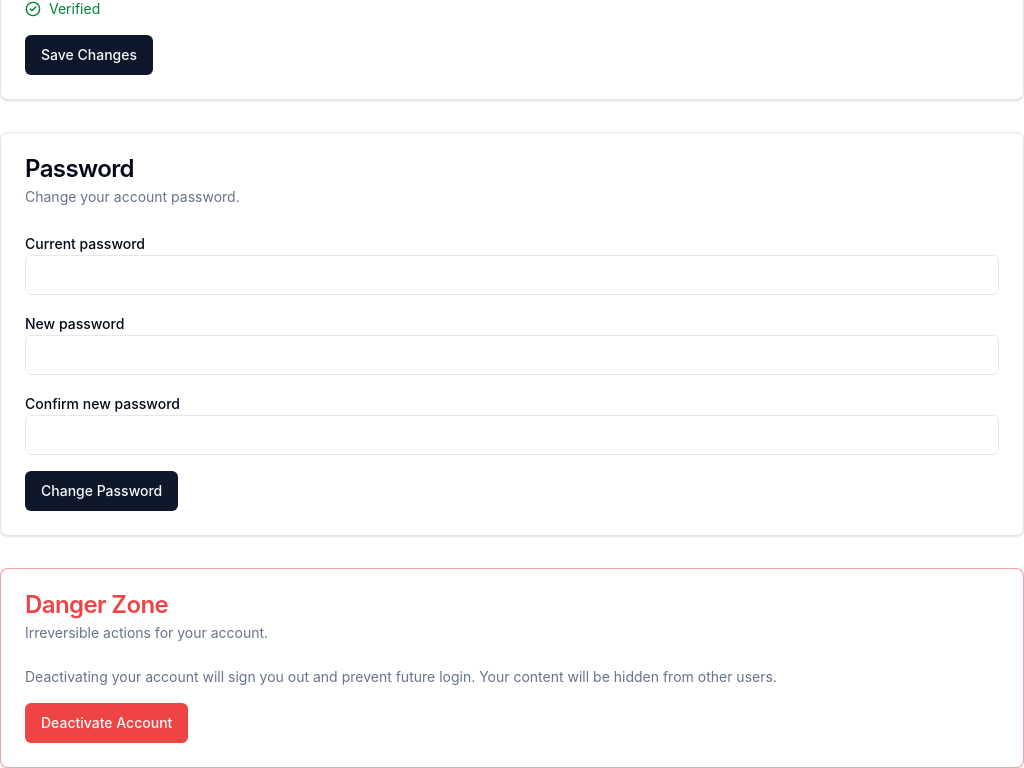
Test: ProfilePage › opens deactivate confirmation dialog with English copy
(page scrolled)
Click the button "Deactivate Account".
click(107, 723)  # box [25,703,188,743]
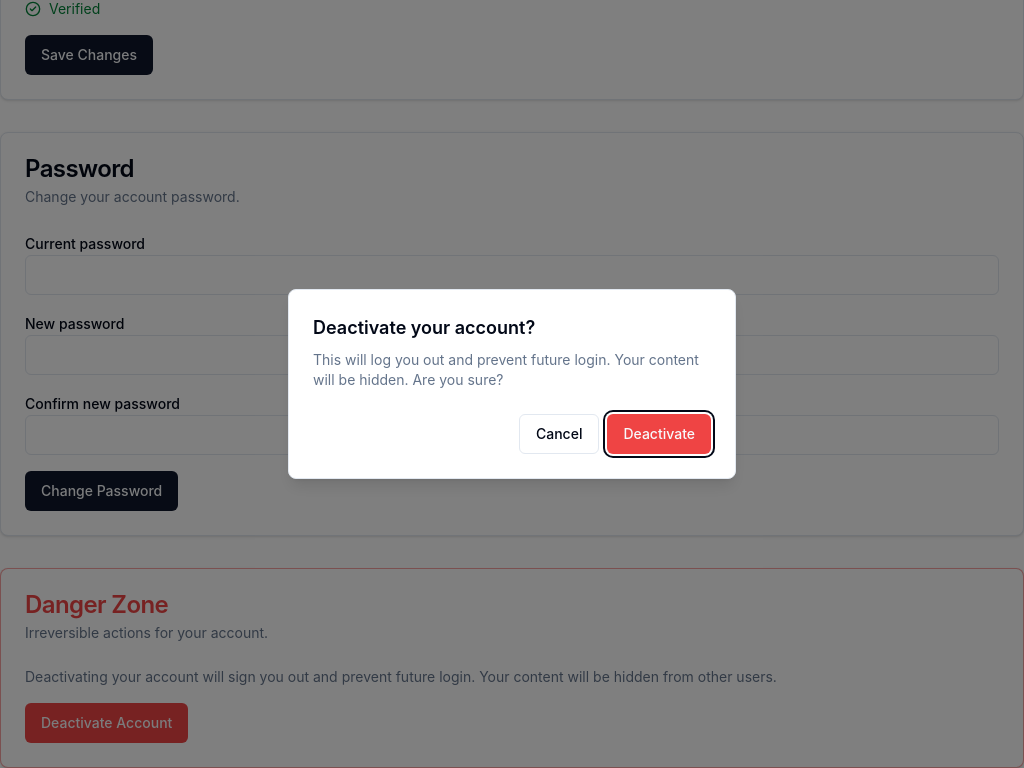
Now the dialog "Deactivate your account?" is shown, box [288,289,736,479]
Now the text "This will log you out and prevent future login. Your content will be hidden. Are you sure?" is shown, box [313,351,699,388]
Now the button "Deactivate" is shown, box [608,414,711,454]
